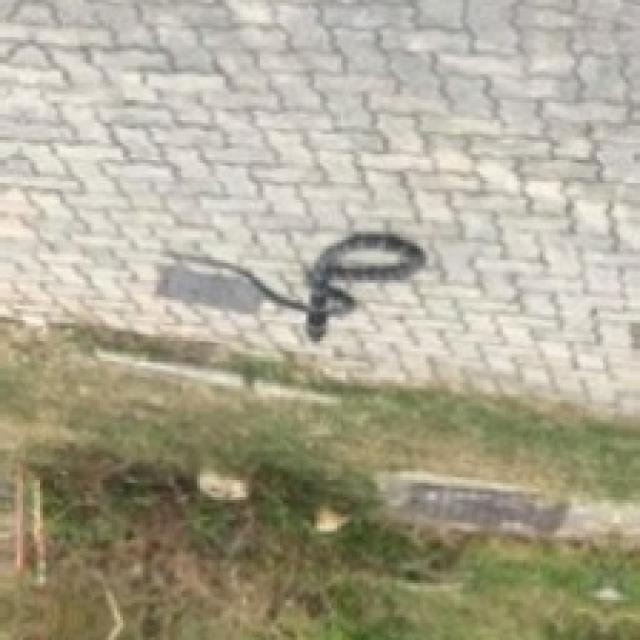king cobra: (157, 231, 423, 337)
